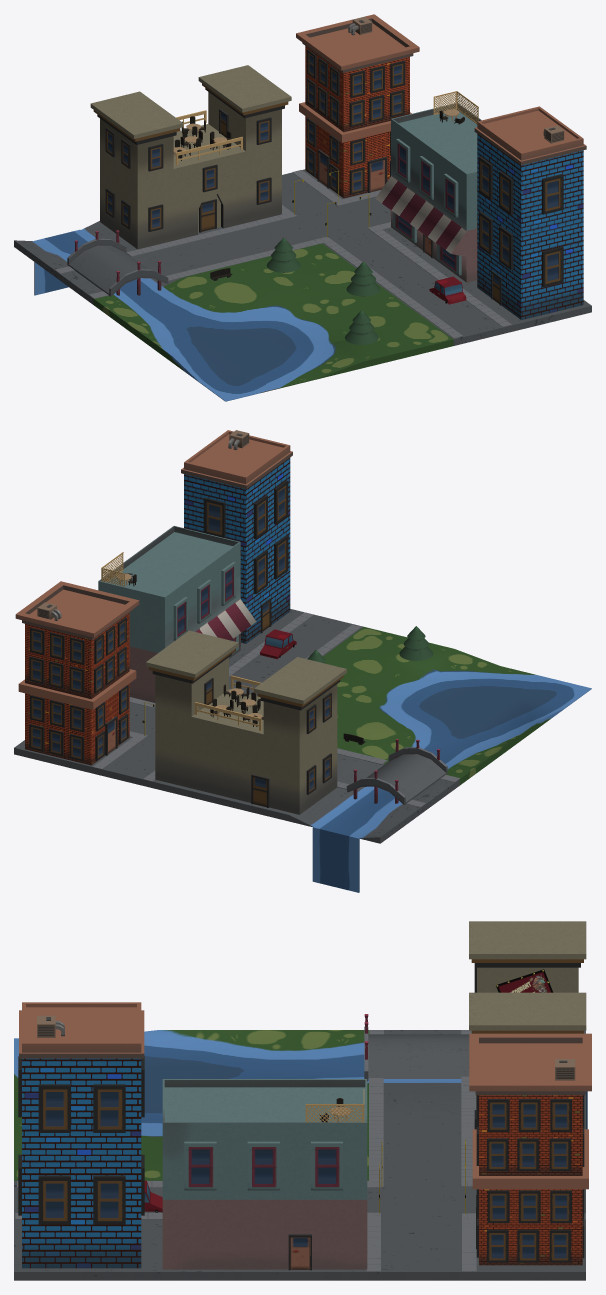
3 views of the same model, one above another, from view 1: azimuth 30°, elevation 25°; view 2: azimuth 150°, elevation 25°; view 3: azimuth 270°, elevation 25° (orthographic). The views are drawn at different scales.
Visible parts, largest first — view 1: Box001, Box115, Box012, Box011, Box009, Box008, Box094, Box097, Box102, Box100, Box029, Box200 (+15 smaller); view 2: Box001, Box115, Box011, Box012, Box009, Box008, Box198, Cone003, Cylinder003, Box097; view 3: Box001, Box011, Box012, Box009, Box115, Box008, Box187, Box193, Box188, Box192, Box100, Box190 (+21 smaller).
Part boxes in pixels (box(x1,y1,x2,y2)): Box001: box(14, 169, 591, 401); Box115: box(90, 65, 291, 249); Box012: box(474, 106, 586, 319); Box011: box(375, 103, 481, 282); Box009: box(296, 14, 419, 198); Box008: box(67, 238, 168, 296); Box094: box(320, 237, 462, 338); Box097: box(370, 229, 511, 326); Box102: box(126, 212, 296, 256); Box100: box(166, 236, 329, 280); Box029: box(433, 91, 478, 123); Box200: box(542, 174, 563, 214); Box001: box(14, 609, 591, 892); Box115: box(146, 630, 346, 814); Box011: box(98, 526, 256, 702); Box012: box(181, 430, 292, 643); Box009: box(15, 581, 139, 765); Box008: box(346, 747, 447, 805); Box198: box(203, 497, 225, 537); Cone003: box(399, 626, 433, 660); Cylinder003: box(260, 629, 296, 659); Box097: box(229, 612, 313, 676); Box001: box(14, 1030, 587, 1280); Box011: box(162, 1079, 367, 1269); Box012: box(19, 1002, 144, 1268); Box009: box(469, 1033, 591, 1265); Box115: box(469, 921, 586, 1033); Box008: box(364, 1026, 469, 1078); Box187: box(184, 1141, 216, 1190); Box193: box(93, 1175, 125, 1224); Box188: box(247, 1141, 279, 1190); Box192: box(38, 1175, 70, 1224); Box100: box(369, 1078, 383, 1187); Box190: box(38, 1084, 70, 1132).
Size of the model in its own units: 200 by 122 by 202.
22 materials, 22 textured.
